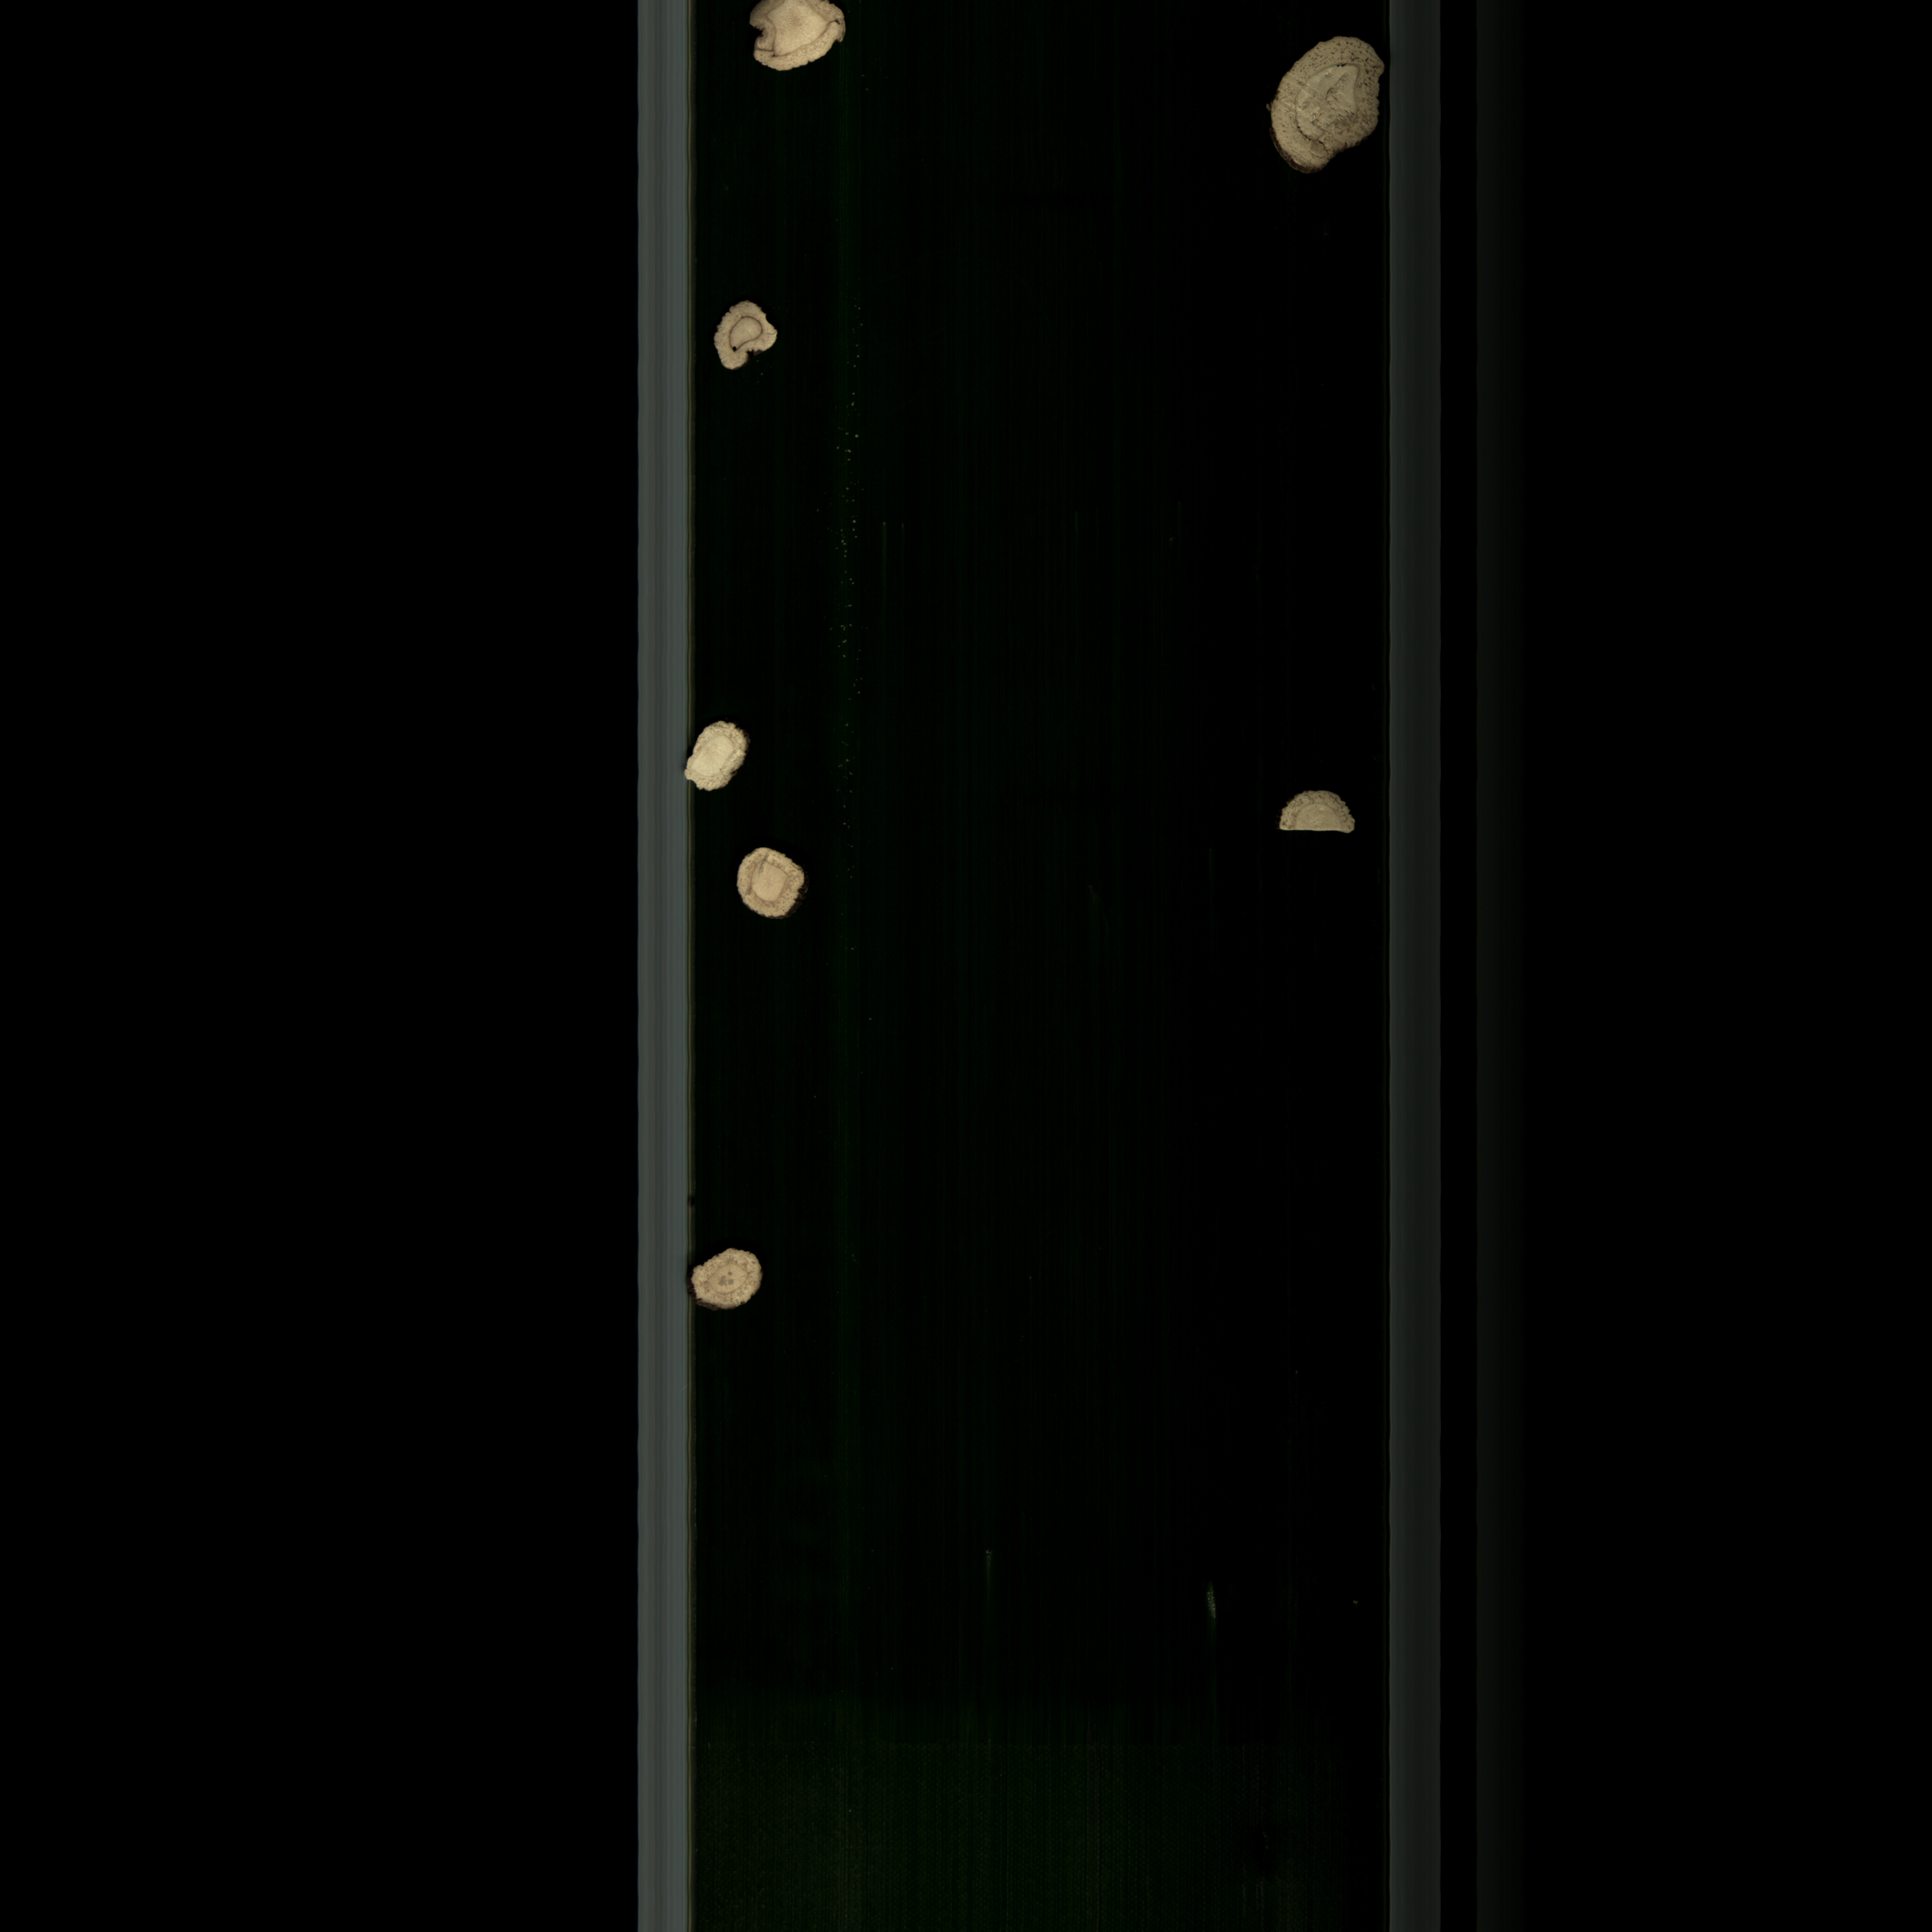debris: (678, 718, 757, 796), (1272, 787, 1364, 847)
distortion: (708, 295, 793, 377)
moldy: (1263, 30, 1385, 179), (729, 0, 862, 73), (686, 1238, 771, 1318)
